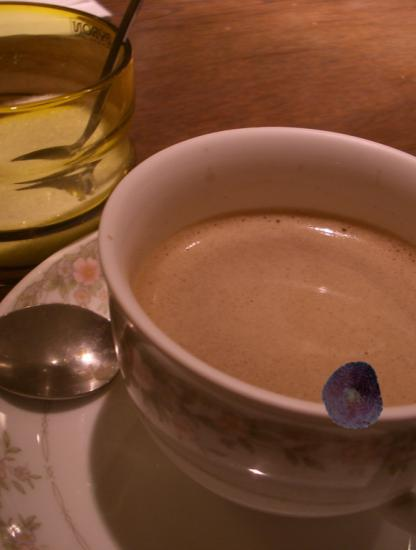Salak: (318, 363, 386, 431)
